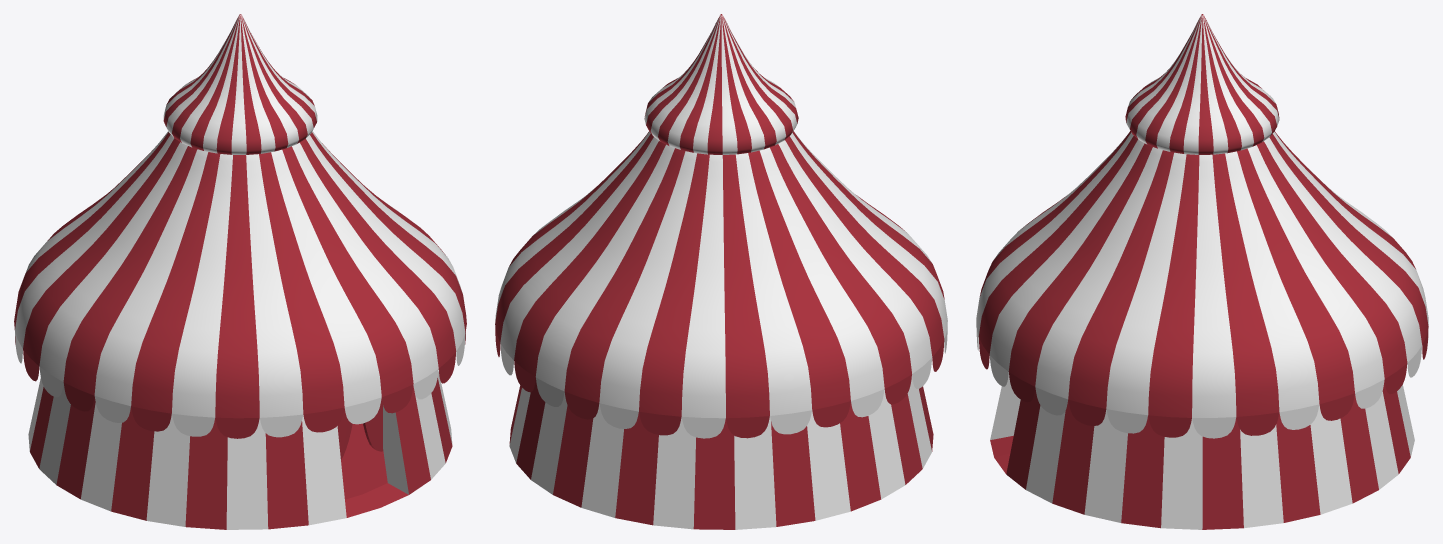
Rendered from BigTent.fbx.
The picture shows the model from 3 angles, left to right: view 1: azimuth 30°, elevation 25°; view 2: azimuth 150°, elevation 25°; view 3: azimuth 270°, elevation 25°; orthographic projection.
Parts seen in each view (by area): view 1: Cylinder.004; view 2: Cylinder.004; view 3: Cylinder.004.
Part boxes in pixels (x1,y1,x2,y2): Cylinder.004: (14,14,466,529); Cylinder.004: (495,14,947,529); Cylinder.004: (976,14,1428,529).
Bounding box in the file's own units: 571 × 593 × 571.
